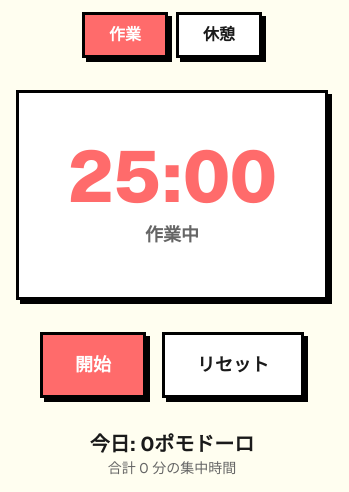
Test: PomodoroTimer › should show pause button when running
Click the button "開始": {"x": 93, "y": 365} [40,332,146,398]
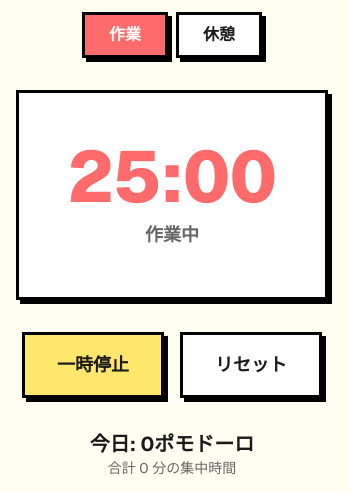
Result: the button "一時停止" is shown at [22,332,164,398]
